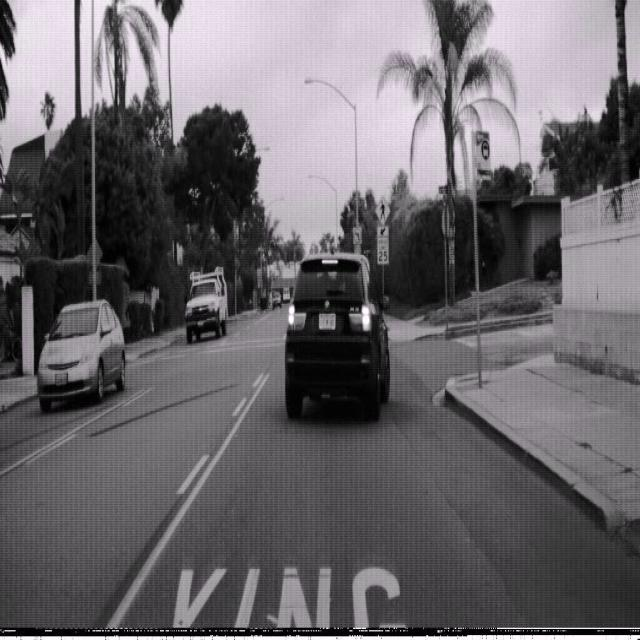pedestrianCrossing: (374, 195, 390, 226)
speedLimit25: (377, 236, 389, 264)
